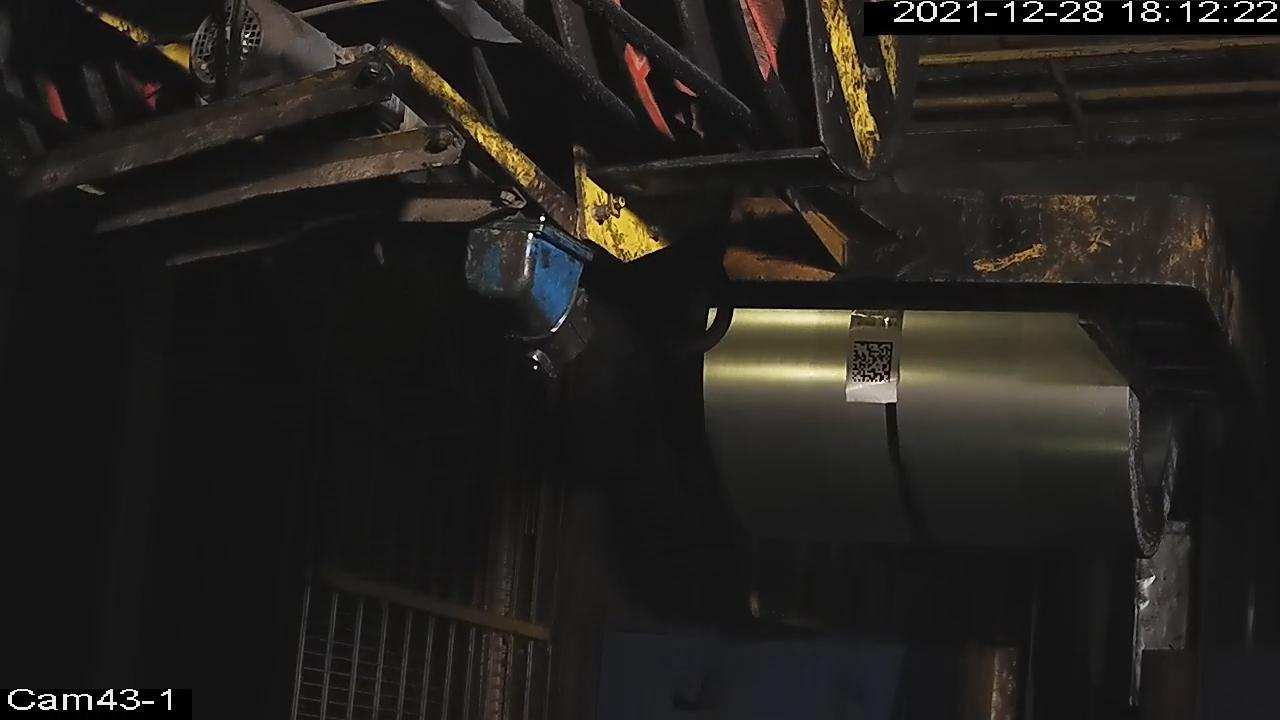data matrix: (851, 340, 896, 387)
